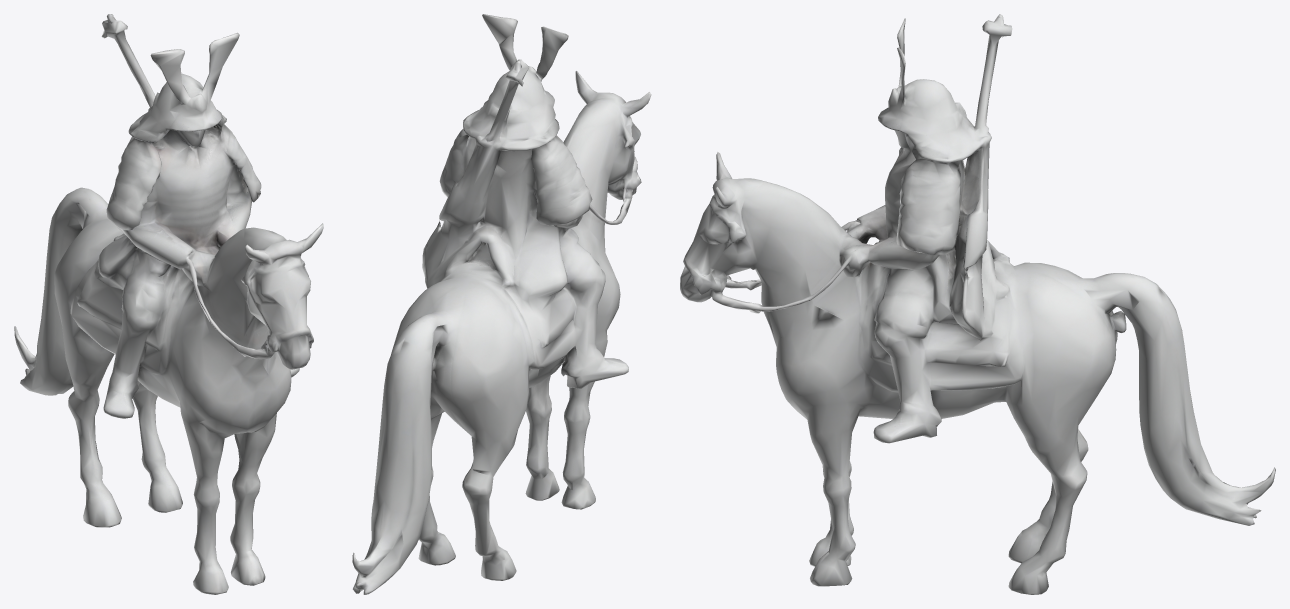
The model's file is Knight.fbx.
3 renders of one model, left to right at view 1: azimuth 30°, elevation 25°; view 2: azimuth 150°, elevation 25°; view 3: azimuth 270°, elevation 25°, orthographic. The views are drawn at different scales.
Visible parts, largest first — view 1: Mesh_0; view 2: Mesh_0; view 3: Mesh_0.
Boxes of the visible parts, x1,y1,x2,y2 form: Mesh_0: (14,14,323,594); Mesh_0: (352,14,651,594); Mesh_0: (680,14,1275,594).
Size of the model in its own units: 78.56 by 199 by 200.
1 material, 1 textured.
